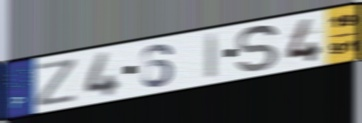4: (83, 49, 122, 99), (285, 16, 323, 64)
6: (141, 43, 175, 88)
I: (204, 31, 222, 82)
S: (235, 24, 281, 74)
Z: (34, 57, 79, 110)
